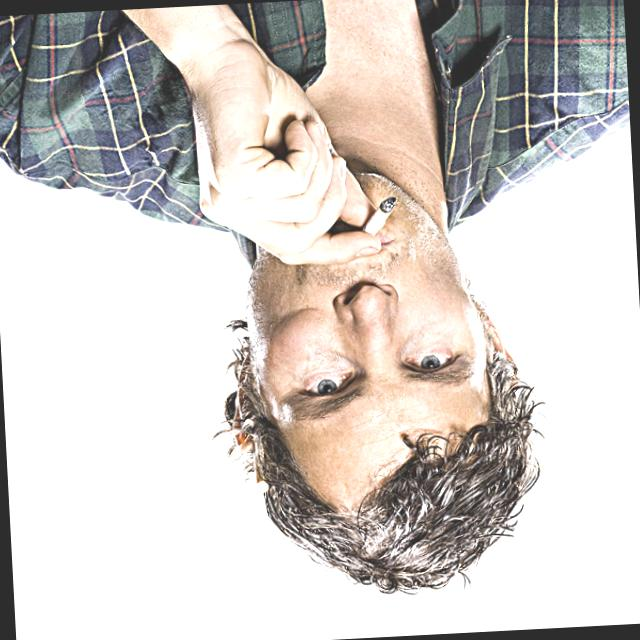smoke: (362, 196, 398, 238)
